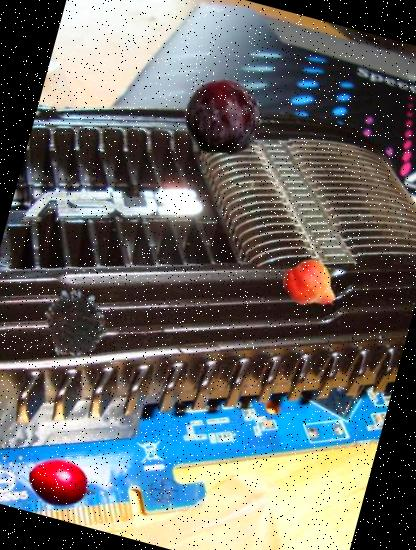Pear: (277, 252, 346, 322)
Plum: (175, 70, 269, 164)
Rambutan: (29, 276, 120, 366)
Tamarillo: (22, 443, 102, 524)
